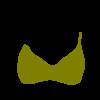reggiseno: (17, 31, 85, 85)
